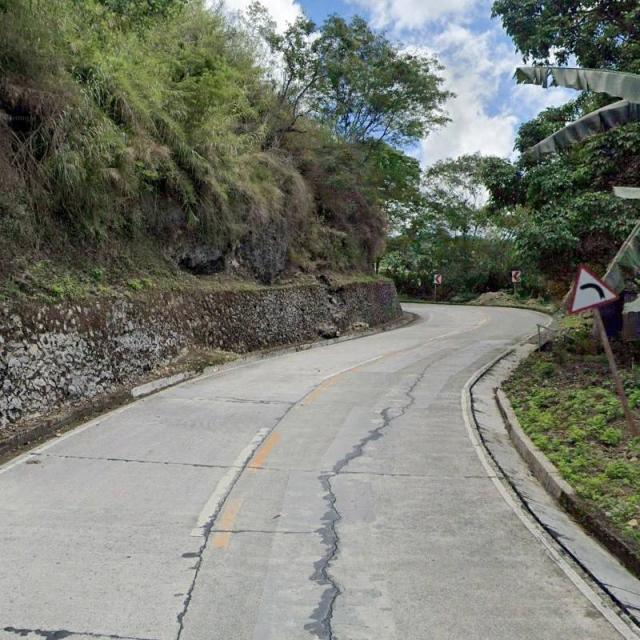warn_left_curve: (569, 264, 620, 314)
